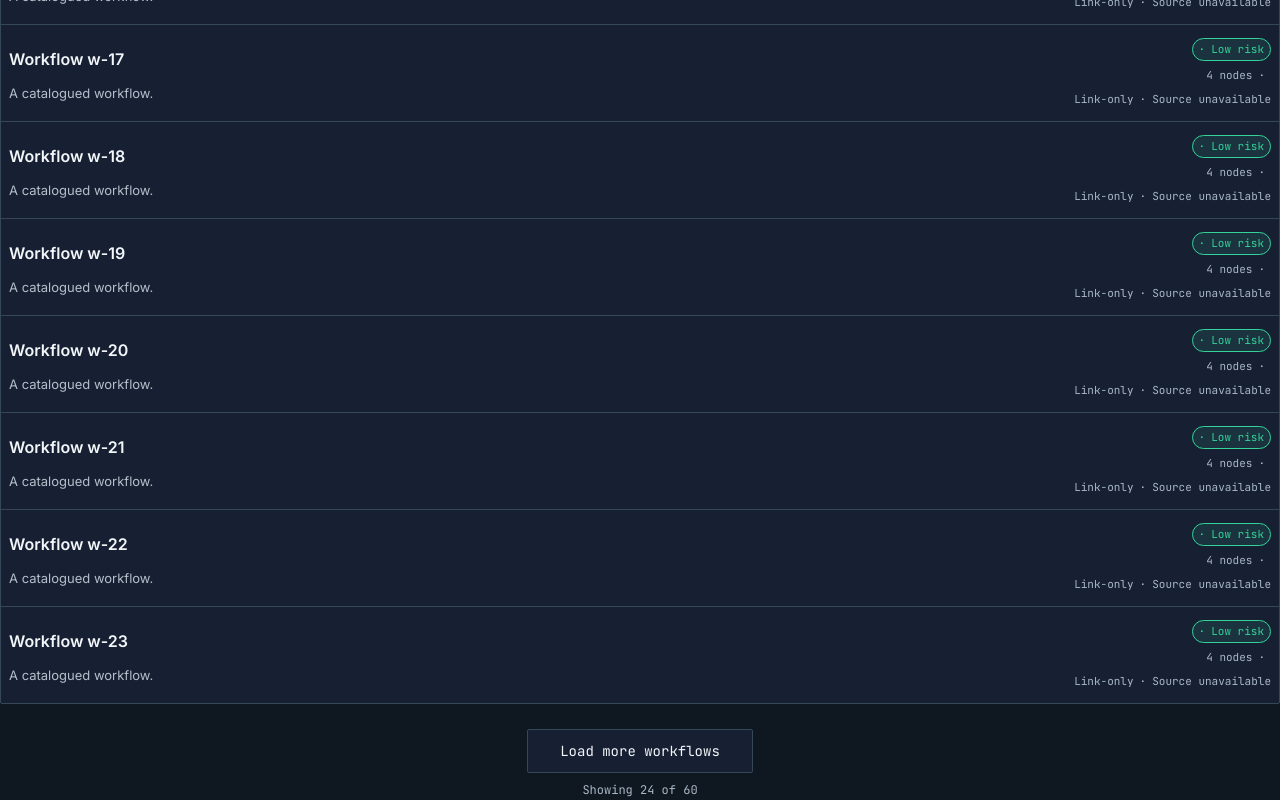
it: library pagination › appends the next page instead of replacing the current one
(page scrolled)
Step 1. Click the button "Load more workflows" → [640, 751], box [527,729,753,773]
(page scrolled)
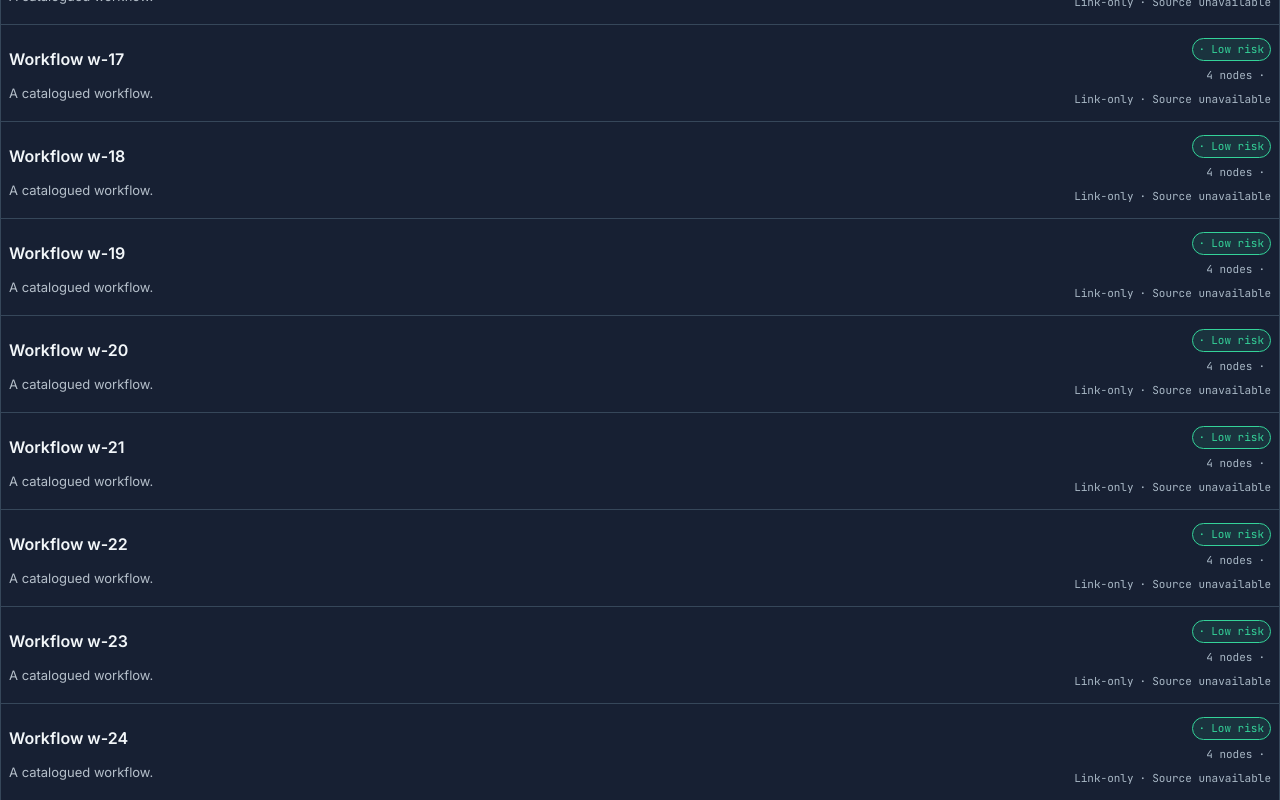
Expected: the text "Workflow w-24" is shown, [9,726,128,750]
